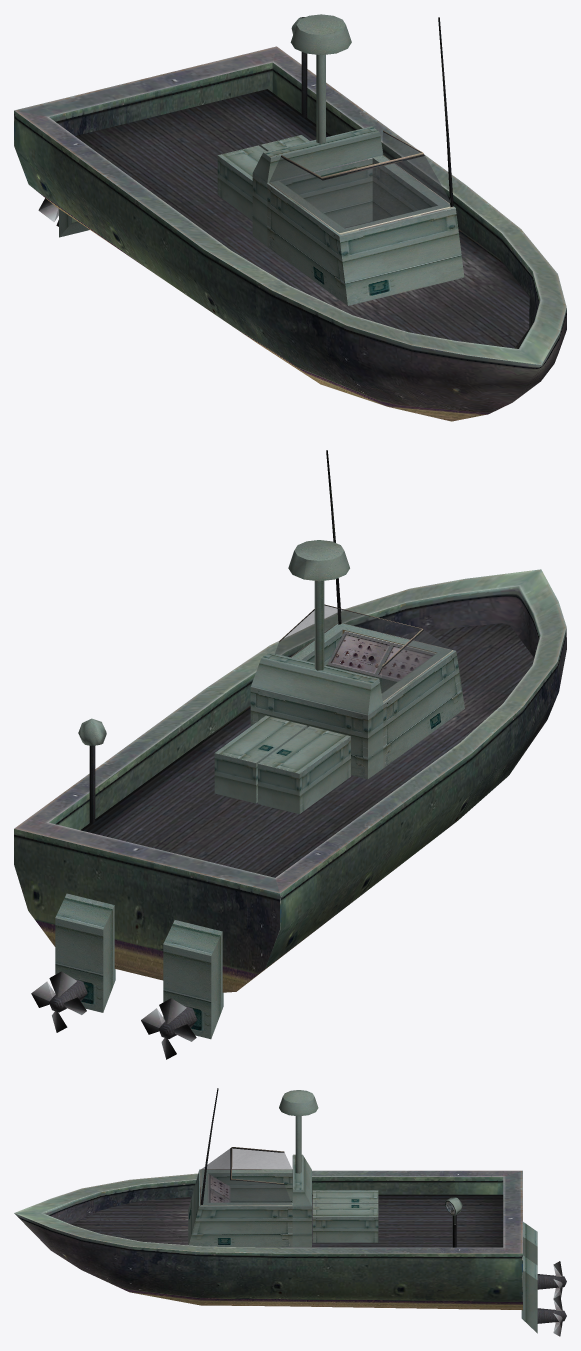
Rendered from PTRLB.glb.
3 renders of one model, top to bottom at view 1: azimuth 30°, elevation 25°; view 2: azimuth 150°, elevation 25°; view 3: azimuth 270°, elevation 25°, orthographic. The views are drawn at different scales.
Parts seen in each view (by area): view 1: _PTRLB; view 2: _PTRLB; view 3: _PTRLB.
Part boxes in pixels (x1=…): _PTRLB: x1=14, y1=14, x2=566, y2=421; _PTRLB: x1=14, y1=450, x2=566, y2=1059; _PTRLB: x1=14, y1=1088, x2=566, y2=1336.
Bounding box in the file's own units: 6.14 × 8.54 × 17.28.
3 materials, 3 textured.
